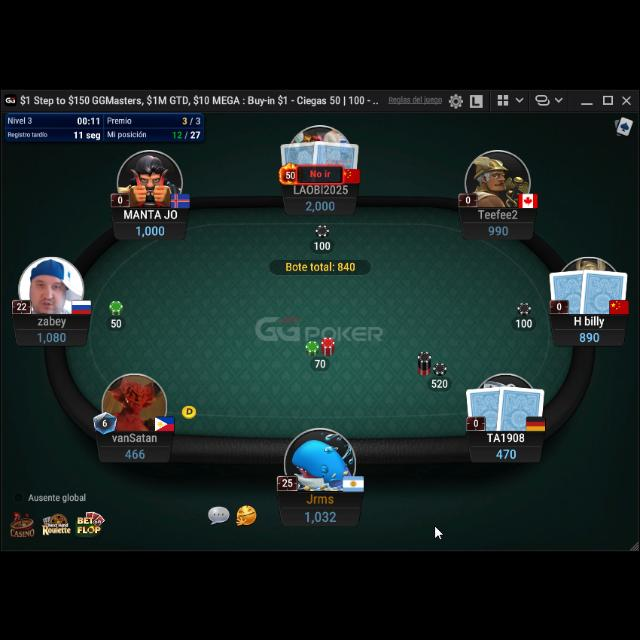bet_text: (514, 314, 534, 326), (314, 238, 331, 252), (429, 376, 448, 386), (110, 316, 122, 328), (314, 358, 326, 368)
card_back: (496, 379, 546, 429), (579, 263, 629, 313), (464, 380, 508, 428), (548, 264, 592, 312), (312, 136, 361, 178), (279, 138, 321, 178)
dealer: (180, 400, 198, 418)
pot_text: (285, 257, 357, 269)
stack_text: (302, 508, 338, 524), (304, 198, 336, 212), (136, 223, 164, 237), (36, 330, 68, 342), (578, 330, 602, 342), (125, 446, 147, 459), (487, 224, 509, 236), (495, 447, 517, 459)
